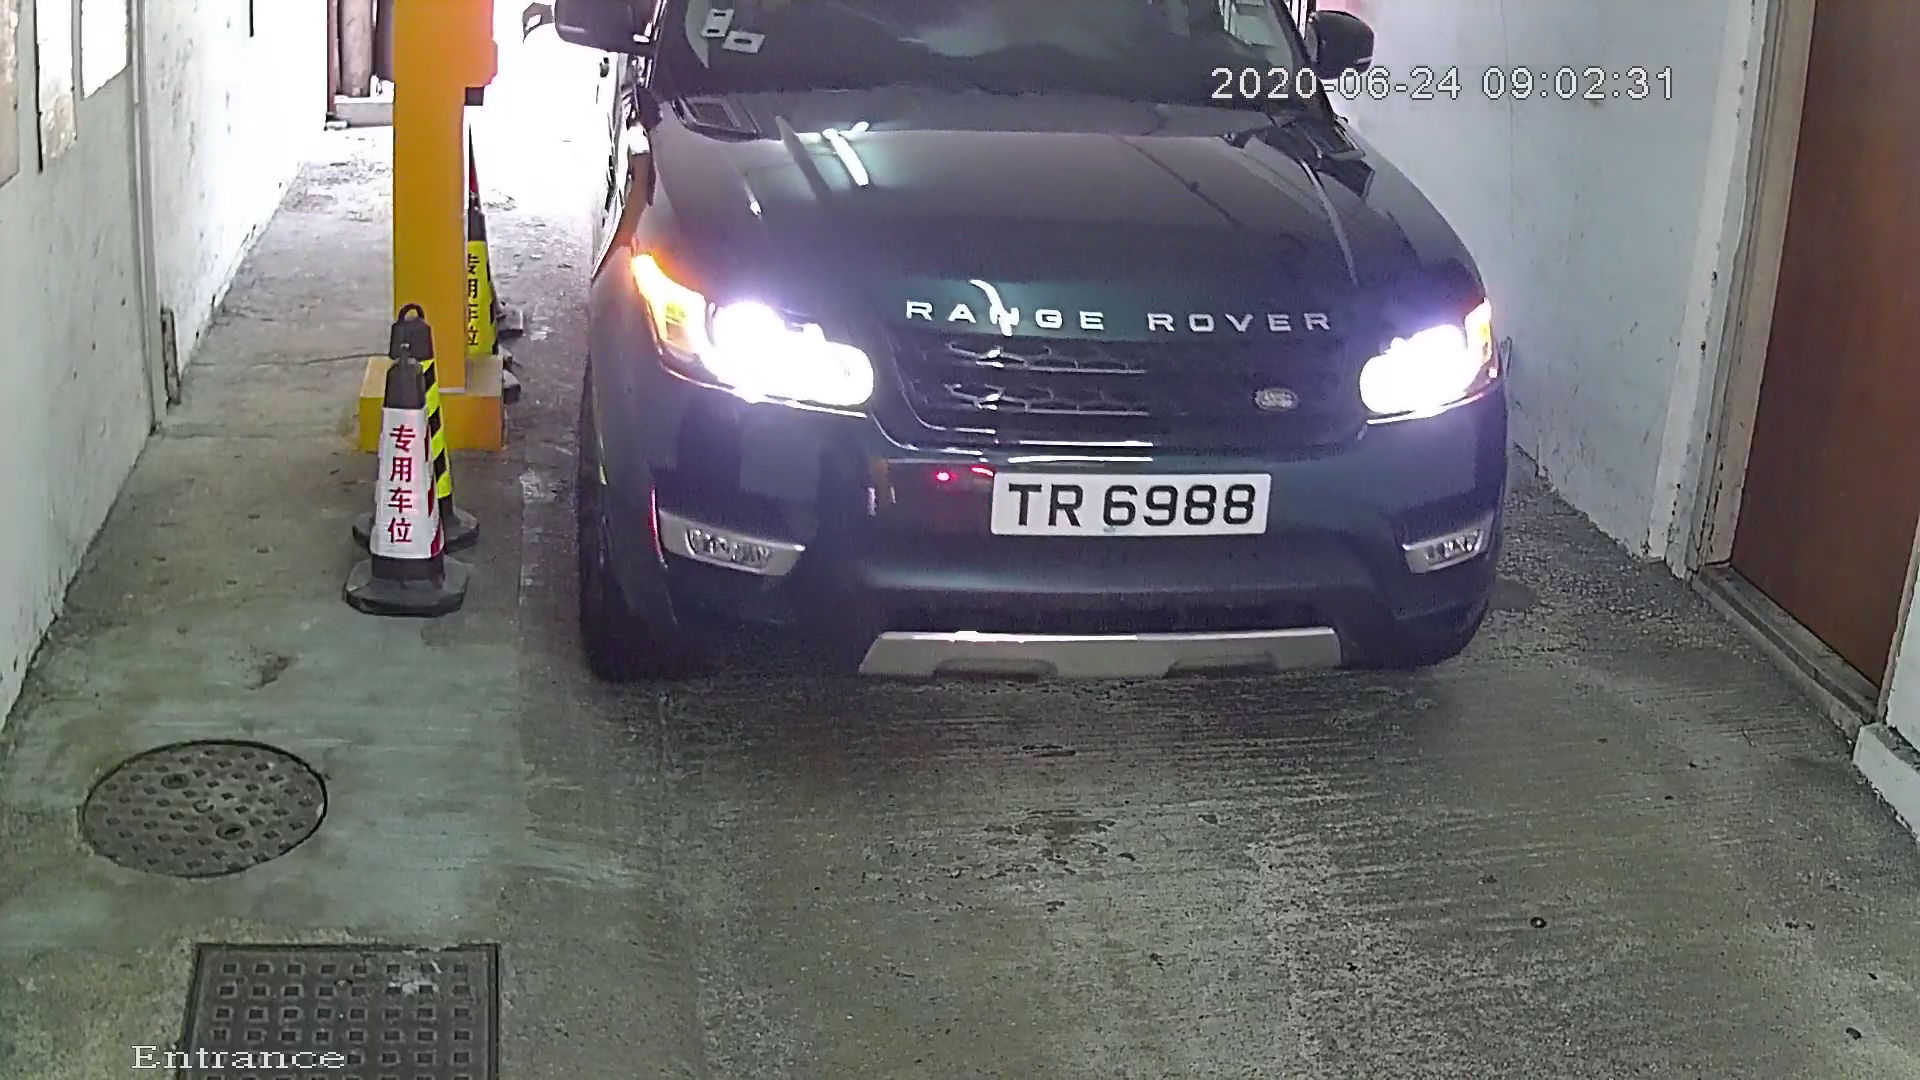privatecar: (527, 1, 1557, 748)
